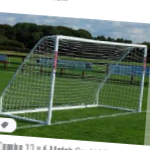goals: (1, 33, 149, 128)
